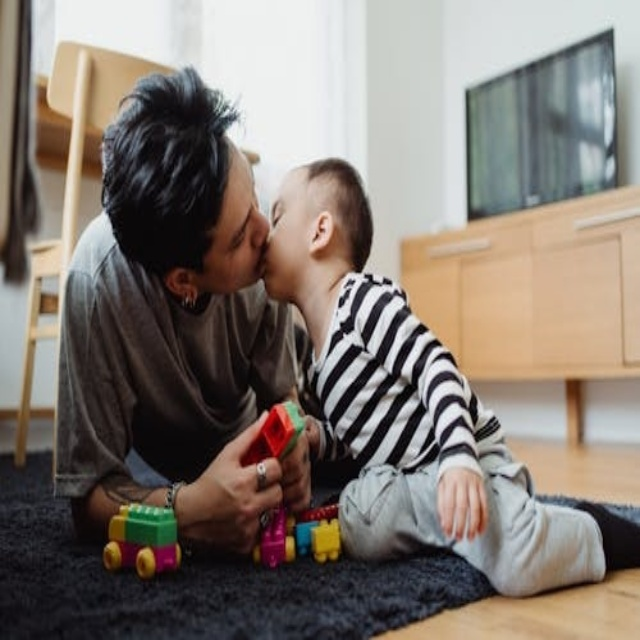Sin_gafas: (269, 192, 302, 227), (229, 207, 252, 250)
Sin_guantes: (182, 398, 287, 559), (438, 463, 488, 542)
